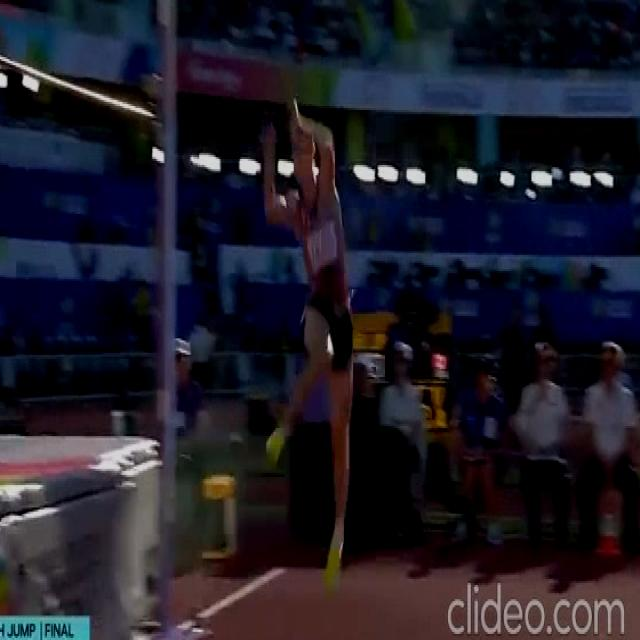jump: (264, 97, 354, 580)
